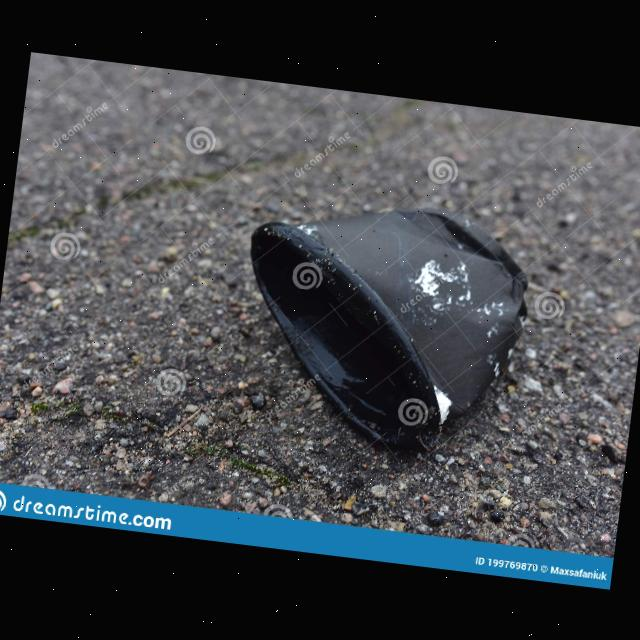trash: (227, 183, 540, 454)
